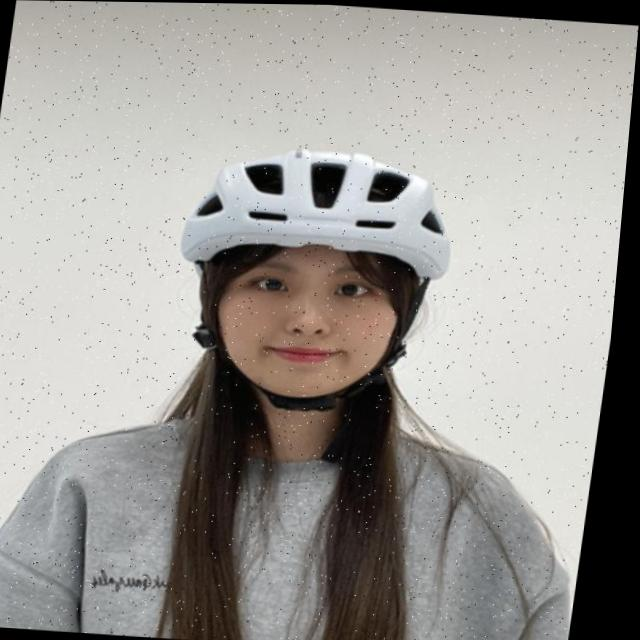helmet: (165, 140, 471, 422)
